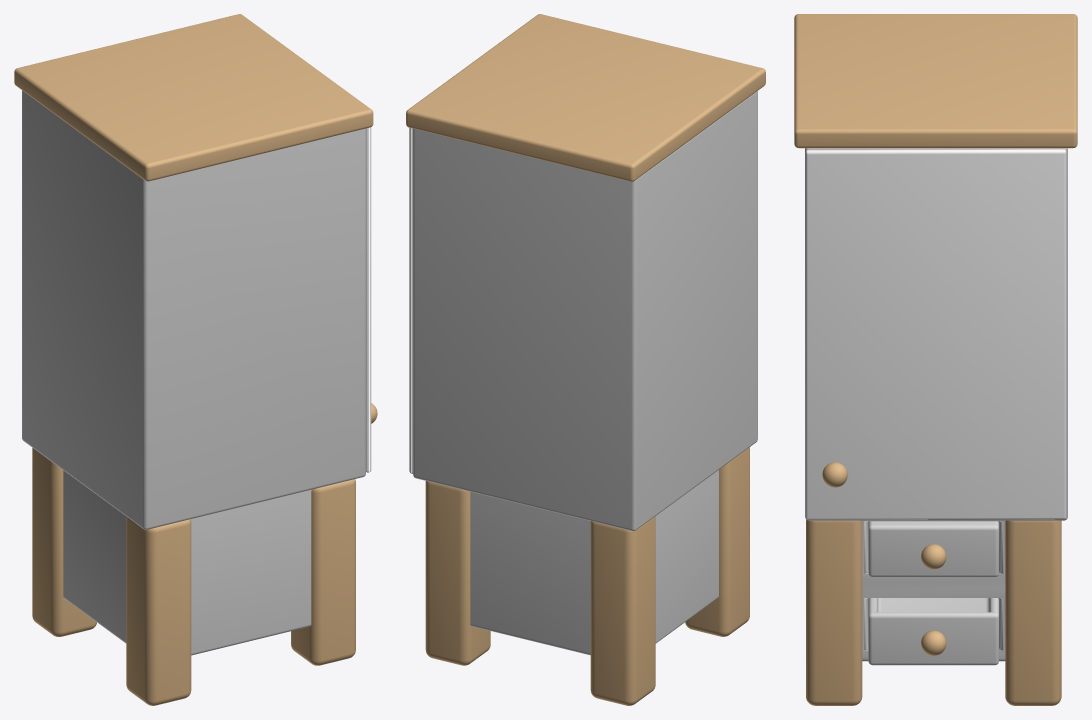
The model's file is simple_library_B.glb.
3 renders of one model, left to right at view 1: azimuth 30°, elevation 25°; view 2: azimuth 150°, elevation 25°; view 3: azimuth 270°, elevation 25°, orthographic. The views are drawn at different scales.
Visible parts, largest first — view 1: simple_library_B; view 2: simple_library_B; view 3: simple_library_B.
Boxes of the visible parts, x1,y1,x2,y2 form: simple_library_B: (14,14,377,705); simple_library_B: (406,14,765,705); simple_library_B: (794,14,1077,705).
Bounding box in the file's own units: 0.7281 × 1.47 × 0.6471.
